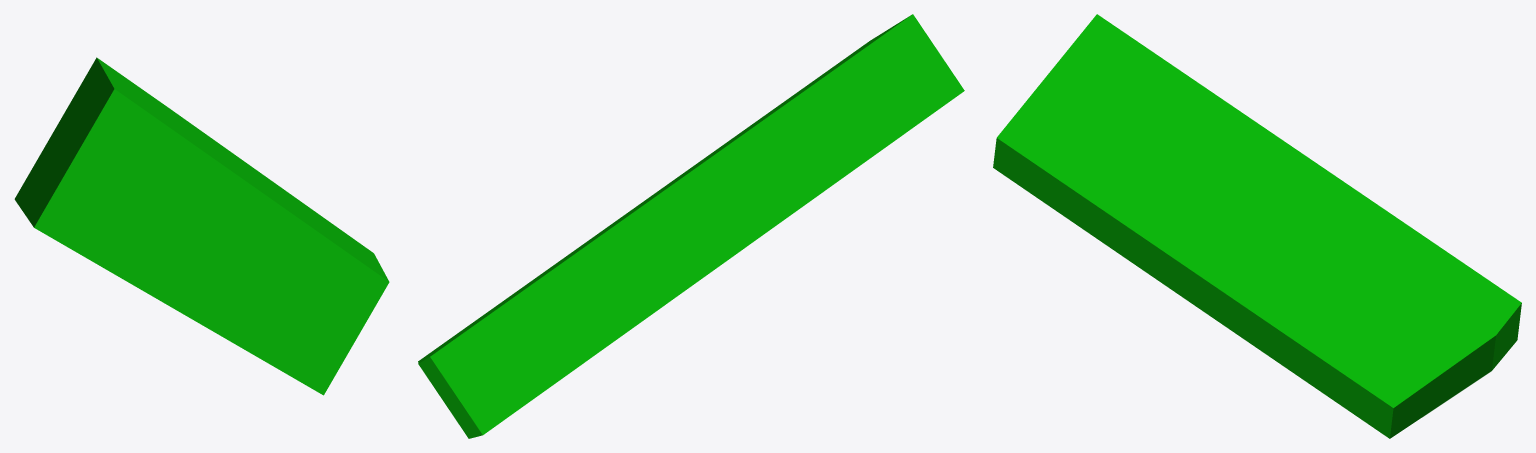
3 renders of one model, left to right at view 1: azimuth 30°, elevation 25°; view 2: azimuth 150°, elevation 25°; view 3: azimuth 270°, elevation 25°, orthographic. The views are drawn at different scales.
Parts seen in each view (by area): view 1: mesh; view 2: mesh; view 3: mesh.
Part boxes in pixels (x1,y1,x2,y2): mesh: [14, 57, 389, 395]; mesh: [418, 14, 964, 438]; mesh: [993, 14, 1521, 438].
Size of the model in its own units: 10.04 by 9.18 by 14.35.
